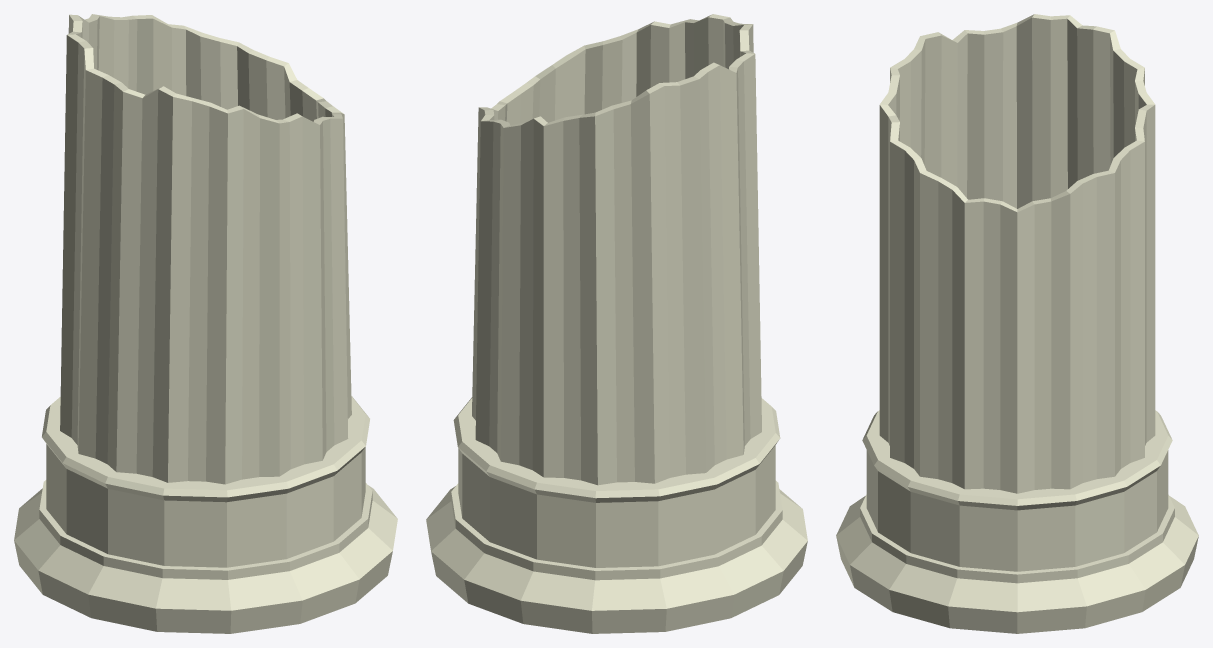
Rendered from kolonnHalfdown.fbx.
The picture shows the model from 3 angles, left to right: view 1: azimuth 30°, elevation 25°; view 2: azimuth 150°, elevation 25°; view 3: azimuth 270°, elevation 25°; orthographic projection. The views are drawn at different scales.
Parts seen in each view (by area): view 1: Circle.001; view 2: Circle.001; view 3: Circle.001.
Part boxes in pixels (box(x1,y1,x2,y2)): Circle.001: box(14, 14, 397, 633); Circle.001: box(426, 14, 807, 633); Circle.001: box(836, 14, 1198, 633).
Bounding box in the file's own units: 85.57 × 129 × 85.57.
